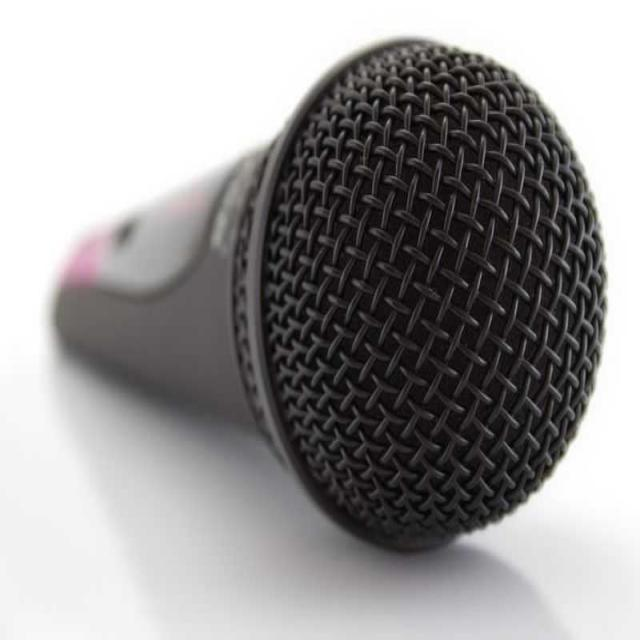microphone: (52, 37, 596, 542)
